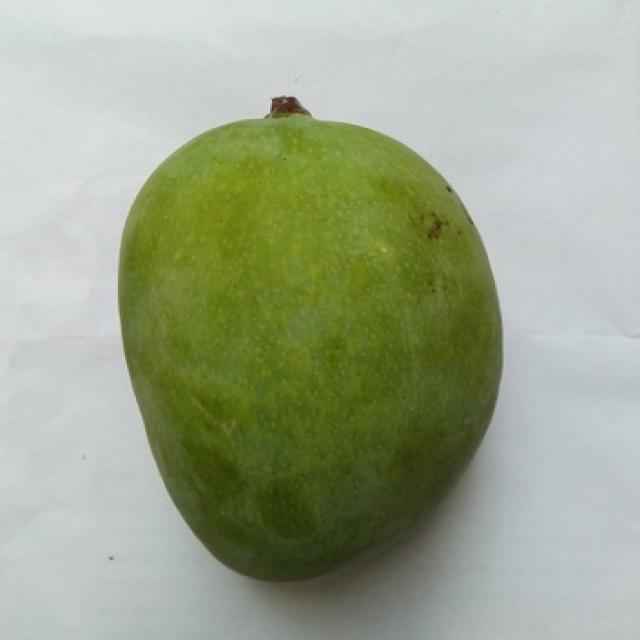Mango: (118, 103, 500, 580)
